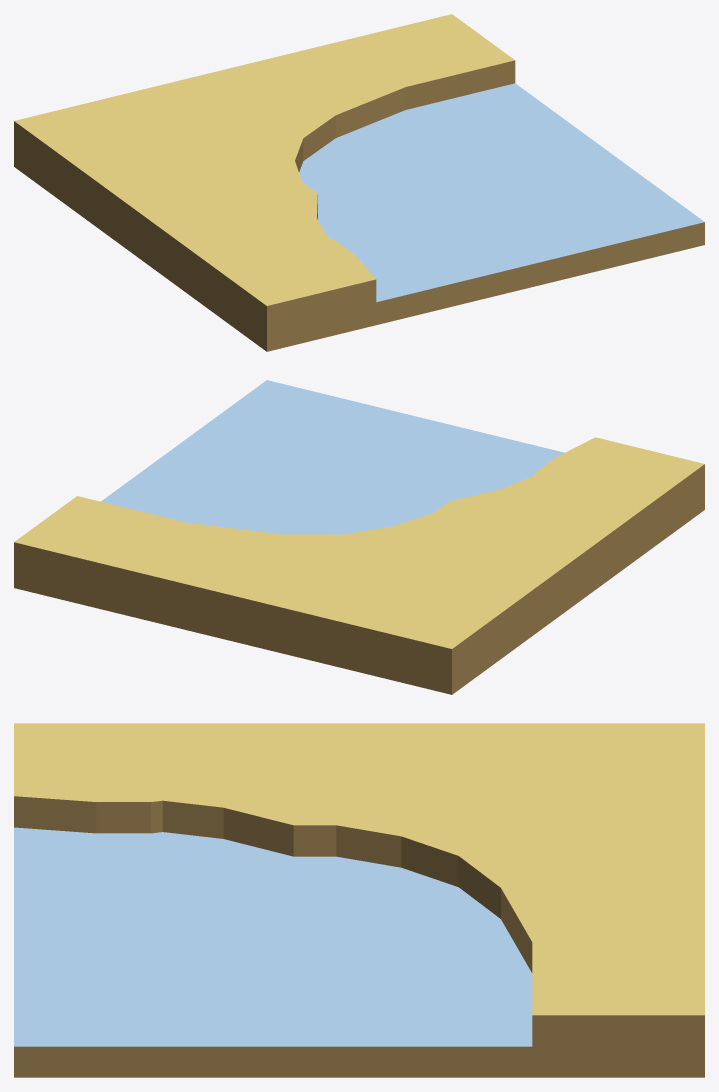
File: Terrain_Modular_Tiles_Sand_Dirt_Water_Edge_Corner_Outer_03.fbx
3 renders of one model, top to bottom at view 1: azimuth 30°, elevation 25°; view 2: azimuth 150°, elevation 25°; view 3: azimuth 270°, elevation 25°, orthographic. The views are drawn at different scales.
Parts seen in each view (by area): view 1: Terrain_Modular_Tiles_Sand_Dirt_Water_Edge_Corner_Outer_03; view 2: Terrain_Modular_Tiles_Sand_Dirt_Water_Edge_Corner_Outer_03; view 3: Terrain_Modular_Tiles_Sand_Dirt_Water_Edge_Corner_Outer_03.
Boxes of the visible parts, bbox=[...] form: Terrain_Modular_Tiles_Sand_Dirt_Water_Edge_Corner_Outer_03: bbox=[14, 14, 704, 351]; Terrain_Modular_Tiles_Sand_Dirt_Water_Edge_Corner_Outer_03: bbox=[14, 380, 704, 694]; Terrain_Modular_Tiles_Sand_Dirt_Water_Edge_Corner_Outer_03: bbox=[14, 723, 704, 1077].
Size of the model in its own units: 118 by 11.81 by 118.
